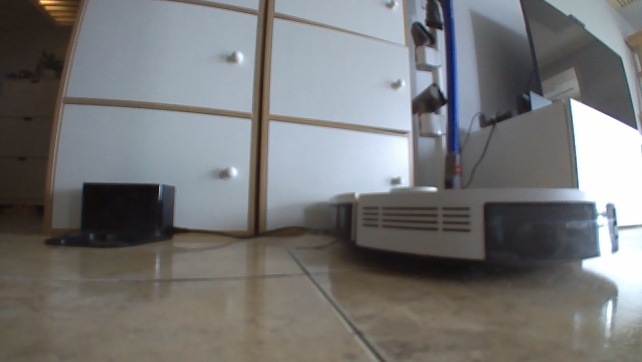charger: (42, 180, 176, 253)
wire: (462, 111, 502, 187), (179, 221, 330, 238)
